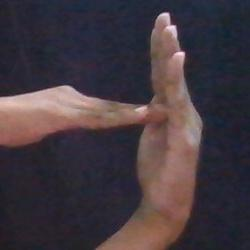Z: (2, 4, 230, 250)
